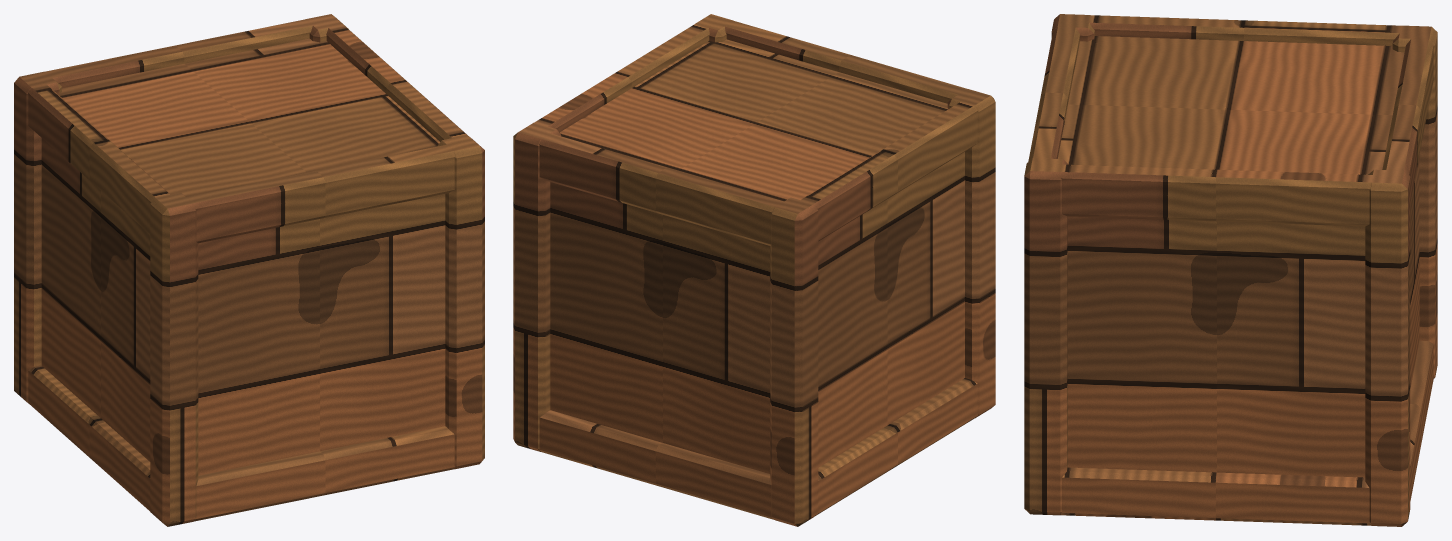
Rendered from Prop_Crate_Back.fbx.
3 views of the same model, side by side, from view 1: azimuth 30°, elevation 25°; view 2: azimuth 150°, elevation 25°; view 3: azimuth 270°, elevation 25° (orthographic). The views are drawn at different scales.
Parts seen in each view (by area): view 1: Prop_Crate_Back; view 2: Prop_Crate_Back; view 3: Prop_Crate_Back.
Boxes of the visible parts, <box> form: Prop_Crate_Back: <box>14,14,484,526</box>; Prop_Crate_Back: <box>513,14,995,526</box>; Prop_Crate_Back: <box>1024,14,1437,526</box>.
Bounding box in the file's own units: 0.6767 × 0.62 × 0.6767.
1 material, 1 textured.
